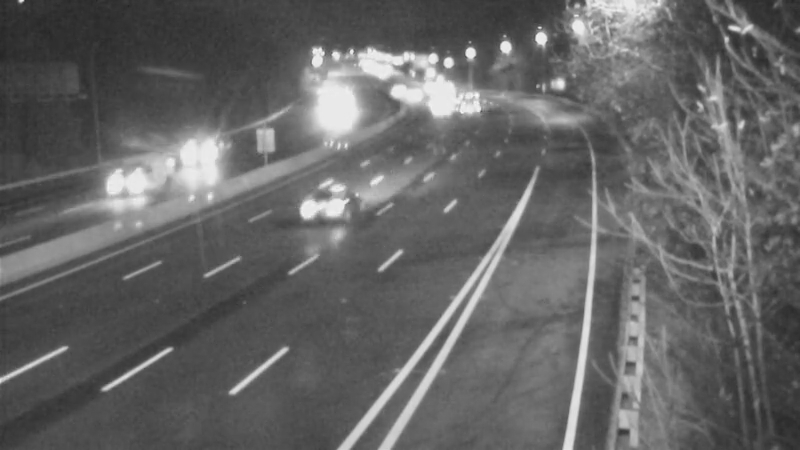vehicle: (298, 159, 378, 239), (88, 146, 168, 226), (163, 118, 243, 198), (412, 59, 462, 109), (384, 75, 434, 125), (443, 76, 493, 126), (409, 84, 459, 134)
